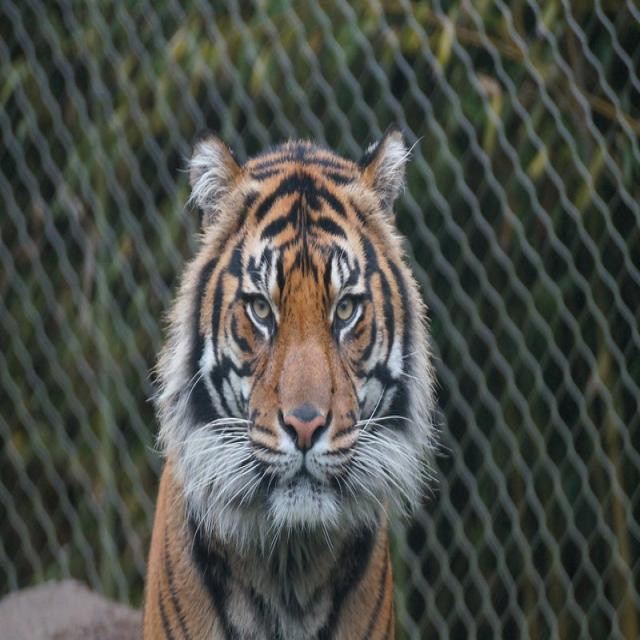Tiger: (138, 119, 438, 639)
